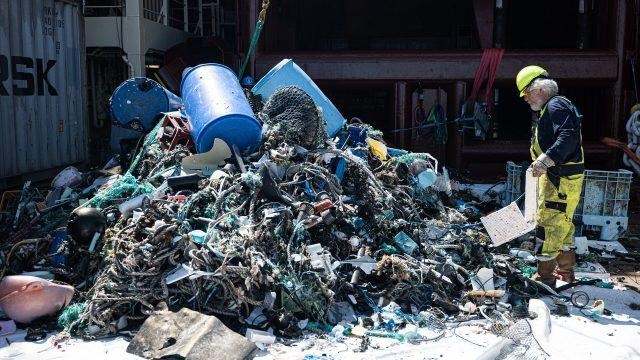garbage: (0, 52, 523, 344)
